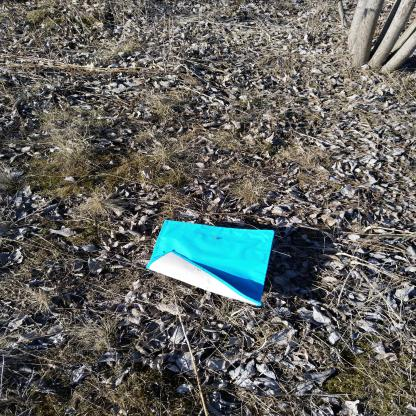diger: (146, 220, 275, 306)
